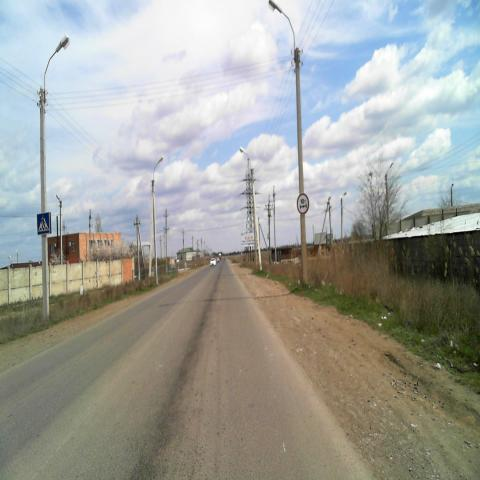3_12: (296, 192, 310, 215)
